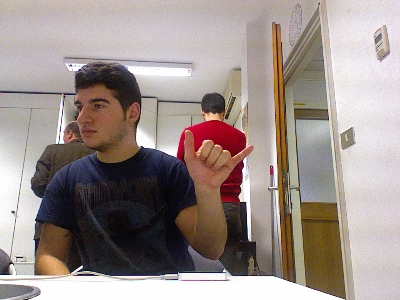六六六: (182, 129, 254, 189)
